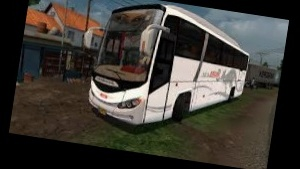bus: (86, 0, 254, 141)
